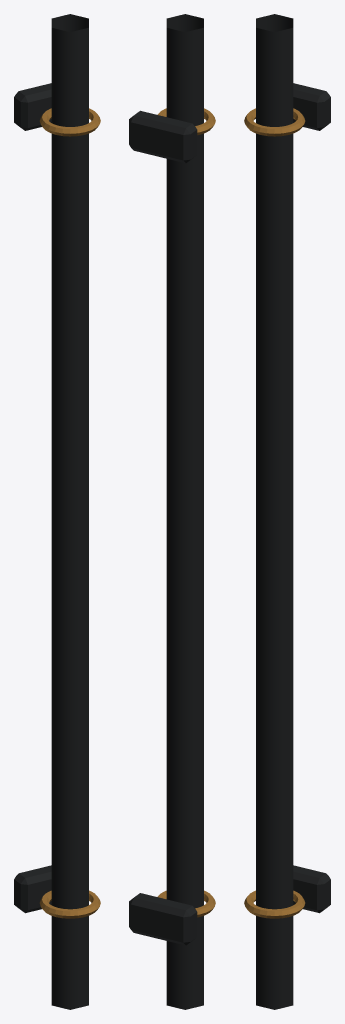
Rendered from DrainpipeStraight.glb.
3 views of the same model, side by side, from view 1: azimuth 30°, elevation 25°; view 2: azimuth 150°, elevation 25°; view 3: azimuth 330°, elevation 25° (orthographic).
Visible parts, largest first — view 1: BlackIronDrainpipe, PipeWallBracket, PipeWallBracket.001, PipeCollar.001, PipeCollar; view 2: BlackIronDrainpipe, PipeWallBracket.001, PipeWallBracket, PipeCollar, PipeCollar.001; view 3: BlackIronDrainpipe, PipeWallBracket, PipeWallBracket.001, PipeCollar.001, PipeCollar.
Part boxes in pixels (left/top/right/bottom): BlackIronDrainpipe: left=51, top=14, right=88, bottom=1009; PipeWallBracket: left=14, top=865, right=51, bottom=913; PipeWallBracket.001: left=14, top=83, right=51, bottom=130; PipeCollar.001: left=39, top=108, right=100, bottom=136; PipeCollar: left=39, top=890, right=100, bottom=918; BlackIronDrainpipe: left=166, top=14, right=203, bottom=1009; PipeWallBracket.001: left=129, top=110, right=197, bottom=163; PipeWallBracket: left=129, top=893, right=197, bottom=945; PipeCollar: left=157, top=890, right=215, bottom=917; PipeCollar.001: left=157, top=108, right=215, bottom=135; BlackIronDrainpipe: left=256, top=14, right=293, bottom=1009; PipeWallBracket: left=293, top=865, right=330, bottom=913; PipeWallBracket.001: left=293, top=83, right=330, bottom=130; PipeCollar.001: left=244, top=108, right=305, bottom=136; PipeCollar: left=244, top=890, right=305, bottom=918.
Bounding box in the file's own units: 0.33 × 5 × 0.402.
